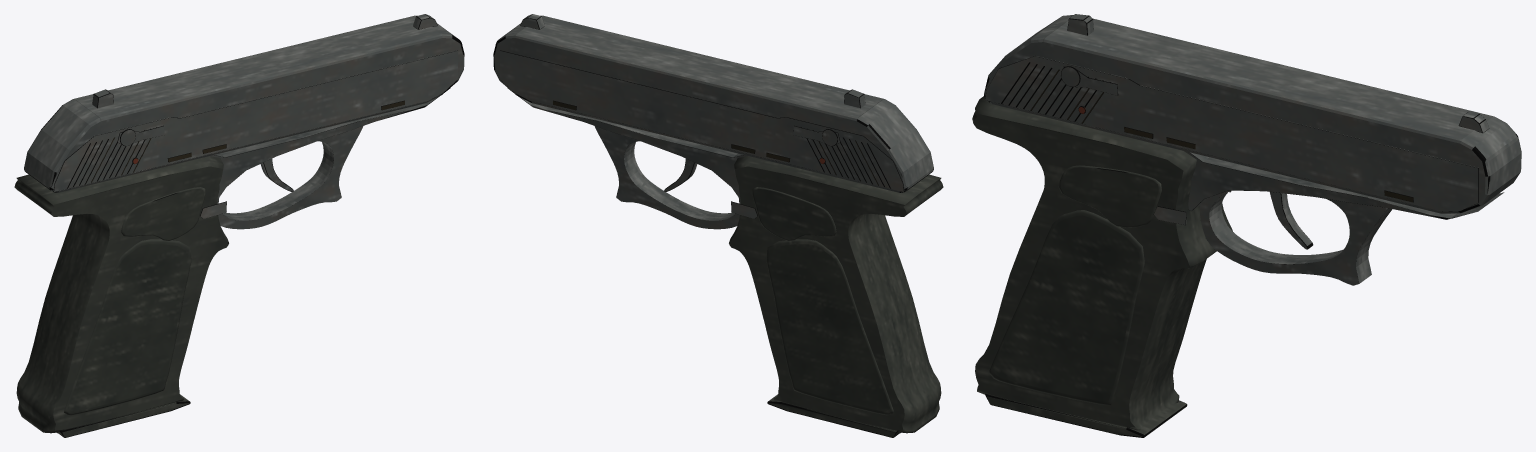
Rendered from p9s_relic.glb.
3 views of the same model, side by side, from view 1: azimuth 30°, elevation 25°; view 2: azimuth 150°, elevation 25°; view 3: azimuth 330°, elevation 25° (orthographic). The views are drawn at different scales.
Parts seen in each view (by area): view 1: p9s_relic; view 2: p9s_relic; view 3: p9s_relic.
Part boxes in pixels (x1=…): p9s_relic: x1=14, y1=14, x2=464, y2=437; p9s_relic: x1=493, y1=14, x2=943, y2=437; p9s_relic: x1=972, y1=14, x2=1521, y2=437.
Bounding box in the file's own units: 1 × 0.7434 × 0.1526.
Materials: 1 (1 with a texture image).
